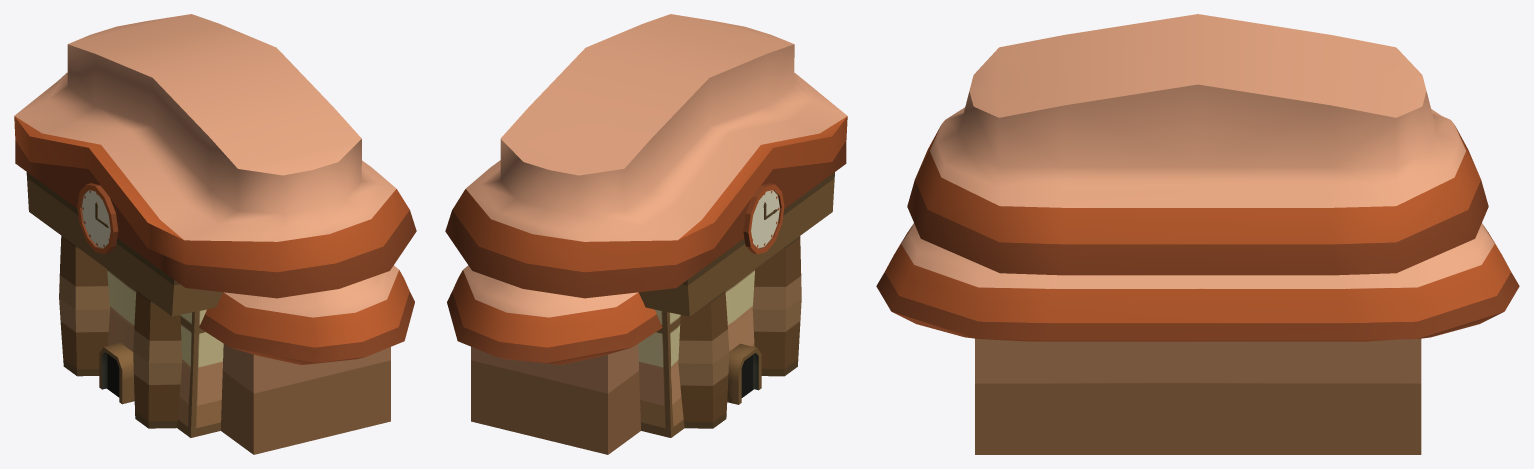
Rendered from town_hall.fbx.
3 views of the same model, side by side, from view 1: azimuth 30°, elevation 25°; view 2: azimuth 150°, elevation 25°; view 3: azimuth 270°, elevation 25° (orthographic). The views are drawn at different scales.
Parts seen in each view (by area): view 1: pCube36, pCube25, pCube33, pCylinder1, pCube48; view 2: pCube36, pCube25, pCube33, pCylinder1, pCube48; view 3: pCube36, pCube25, pCube33.
Boxes of the visible parts, box(x1,y1,x2,y2) form: pCube36: box(14, 14, 416, 298); pCube25: box(26, 172, 390, 454); pCube33: box(199, 265, 414, 364); pCylinder1: box(77, 183, 118, 254); pCube48: box(99, 343, 134, 404); pCube36: box(445, 14, 847, 298); pCube25: box(471, 172, 834, 454); pCube33: box(447, 265, 662, 364); pCylinder1: box(743, 183, 784, 254); pCube48: box(727, 343, 761, 404); pCube36: box(907, 14, 1488, 275); pCube25: box(975, 338, 1421, 454); pCube33: box(876, 223, 1519, 341).
Bounding box in the file's own units: 2.47 × 2.96 × 4.79.
6 materials, 6 textured.
